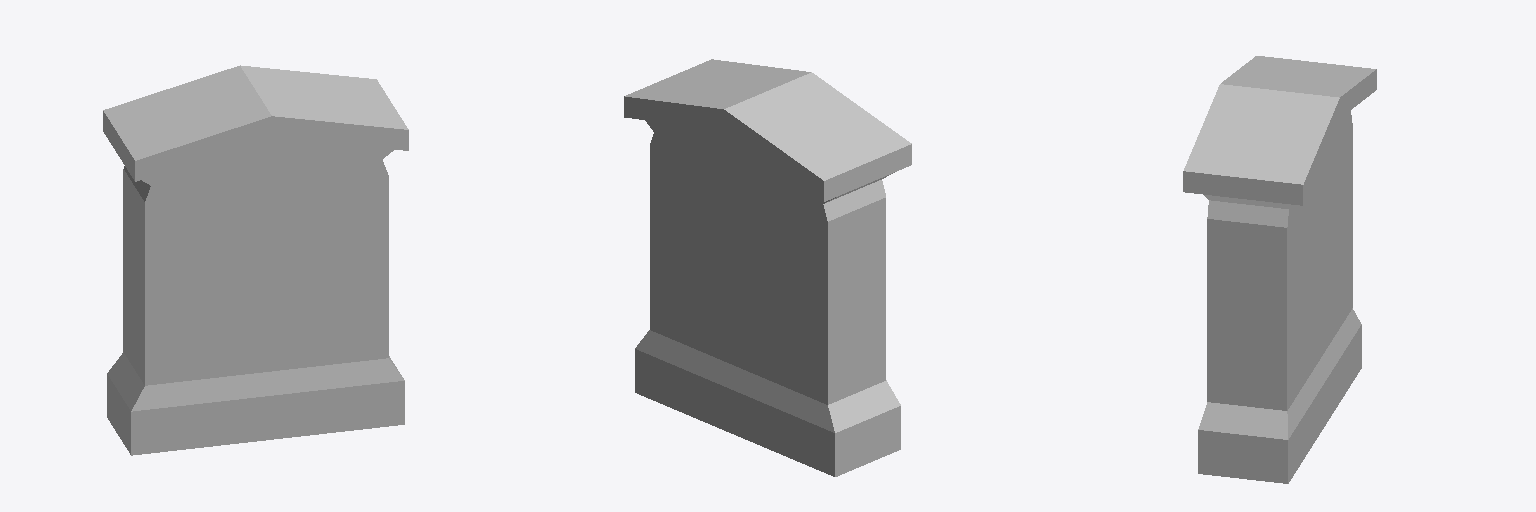
Rendered from Gravestone_Roof_6.obj.
3 renders of one model, left to right at view 1: azimuth 30°, elevation 25°; view 2: azimuth 150°, elevation 25°; view 3: azimuth 270°, elevation 25°, orthographic.
Visible parts, largest first — view 1: Gravestone_Roof_6; view 2: Gravestone_Roof_6; view 3: Gravestone_Roof_6.
Boxes of the visible parts, x1,y1,x2,y2 form: Gravestone_Roof_6: [103, 65, 408, 455]; Gravestone_Roof_6: [624, 59, 911, 476]; Gravestone_Roof_6: [1183, 56, 1376, 483].
Size of the model in its own units: 0.5896 by 0.7028 by 0.3729.